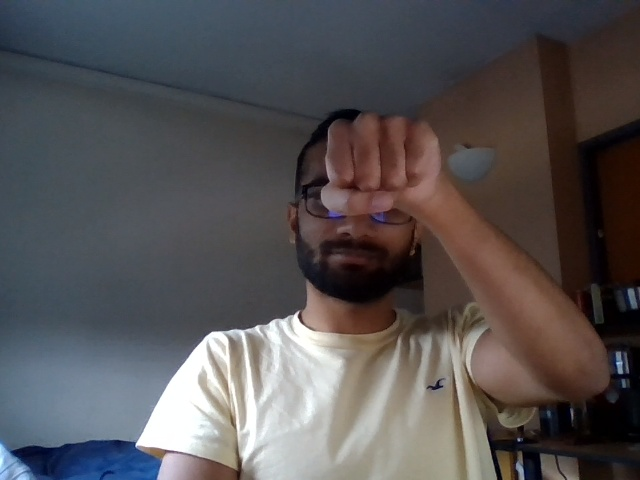Yes: (314, 107, 456, 224)
